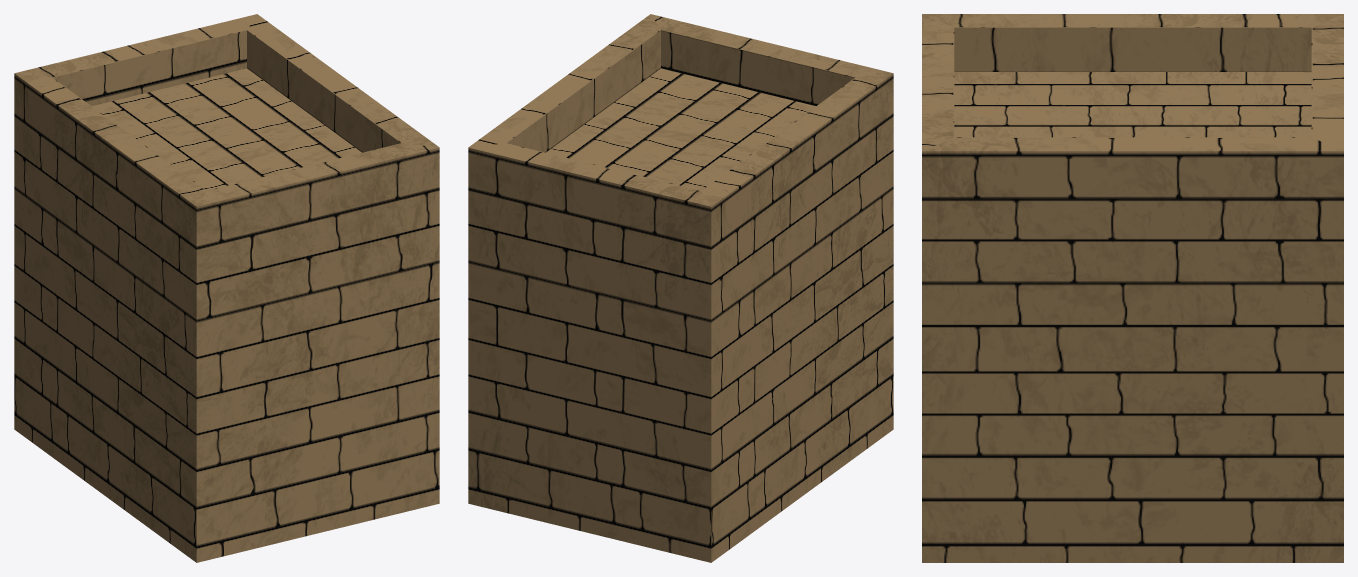
Rendered from Edificio2.fbx.
3 renders of one model, left to right at view 1: azimuth 30°, elevation 25°; view 2: azimuth 150°, elevation 25°; view 3: azimuth 270°, elevation 25°, orthographic. The views are drawn at different scales.
Visible parts, largest first — view 1: Box001; view 2: Box001; view 3: Box001.
Part boxes in pixels (x1,y1,x2,y2): Box001: [14, 14, 439, 562]; Box001: [468, 14, 893, 562]; Box001: [922, 14, 1343, 562].
Size of the model in its own units: 1 by 1.4 by 1.3.
Materials: 1 (1 with a texture image).
